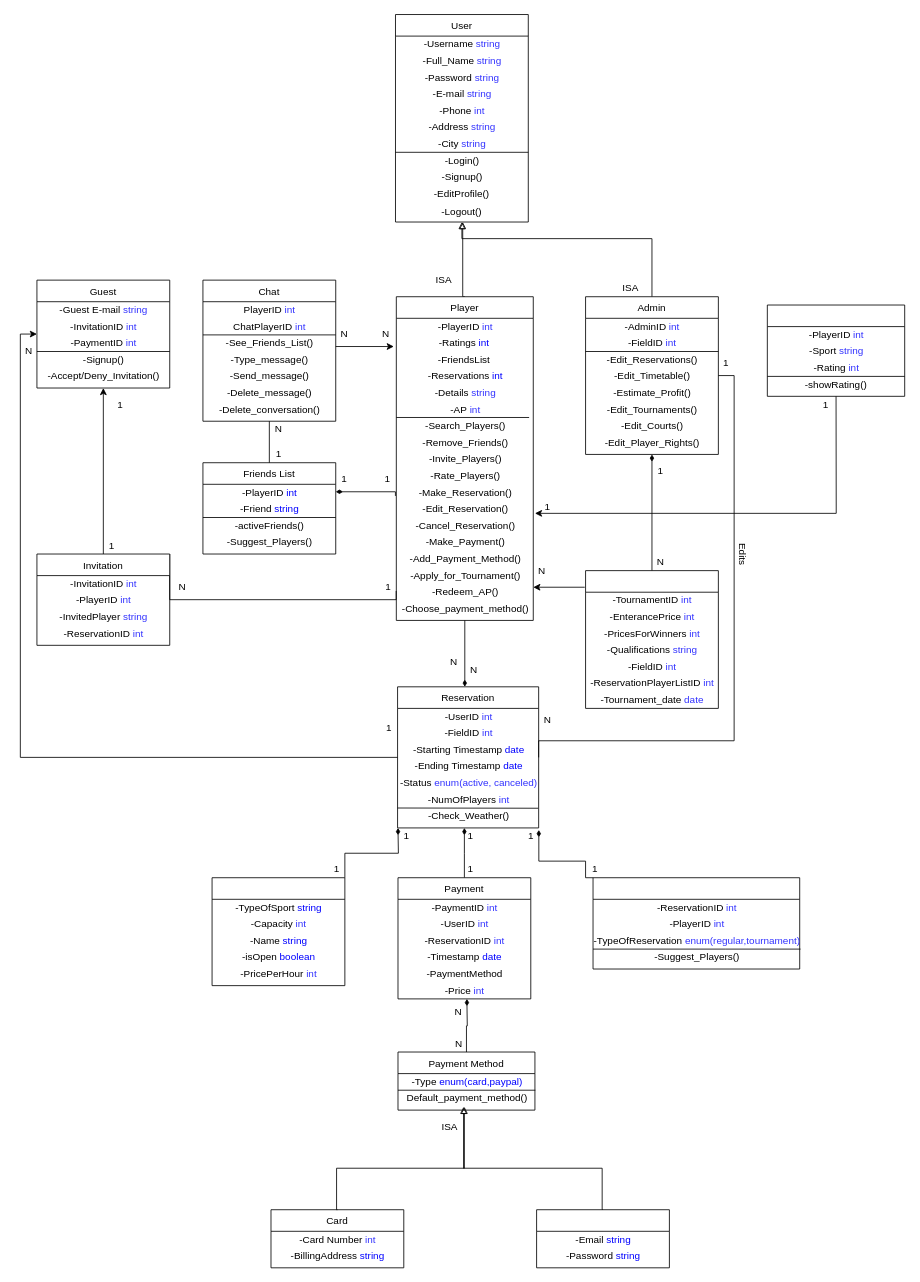
This 920x1282 diagram has some shape labels left out. The shapes that lost their labels are listed below. From the top down, each one's box as (x1, y1, x2, y2) in pixels, then its label:
(767, 304, 905, 396): Ratings
(585, 570, 718, 708): Tournaments
(211, 877, 345, 986): Field
(592, 877, 800, 969): ReservationPlayerList
(536, 1209, 669, 1268): Paypal
